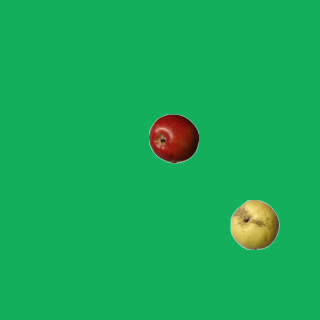Apple Braeburn: (148, 113, 198, 163)
Apple Golden 1: (229, 199, 279, 249)
